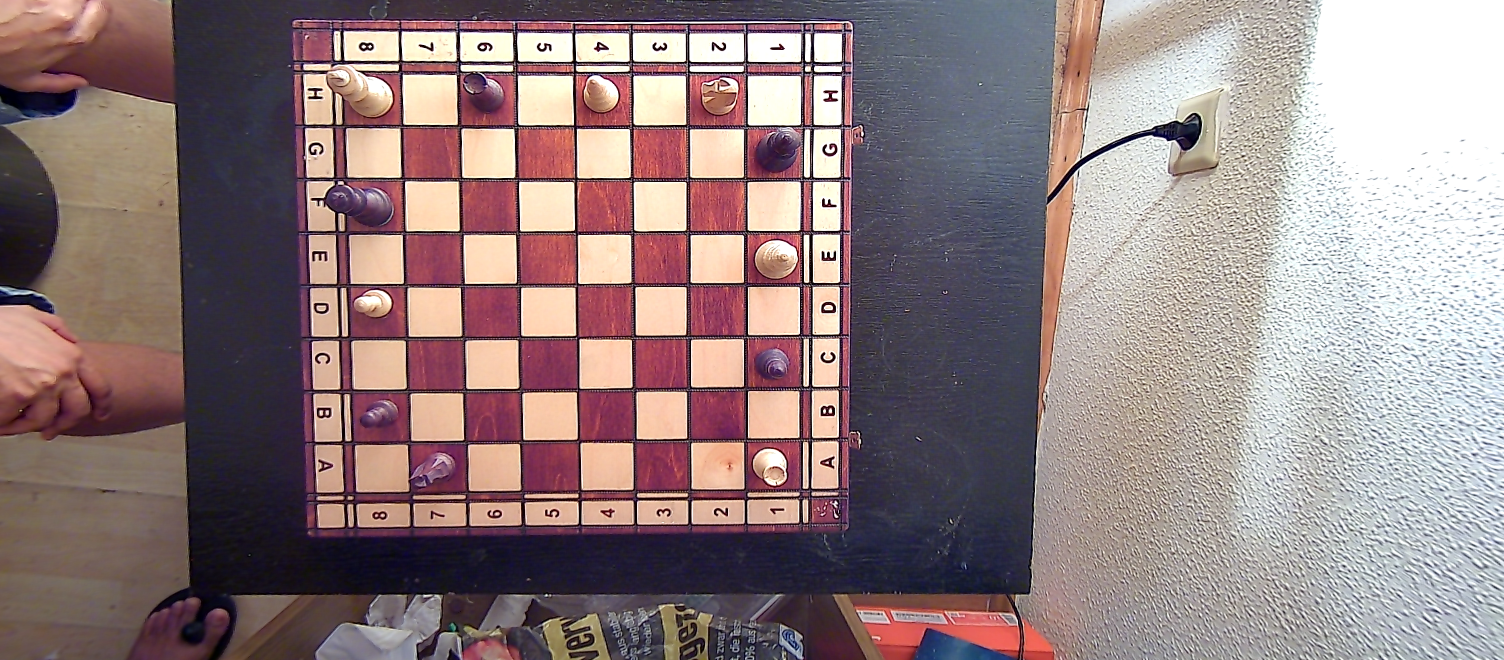black-bishop: (754, 343, 796, 385)
black-king: (323, 183, 395, 228)
black-knight: (404, 451, 455, 490)
black-pawn: (356, 396, 400, 431)
black-queen: (751, 124, 804, 172)
black-rook: (460, 70, 507, 114)
white-bishop: (579, 72, 622, 116)
white-king: (324, 59, 394, 118)
white-knight: (695, 75, 741, 119)
white-pawn: (353, 284, 394, 320)
white-queen: (753, 236, 800, 281)
white-rook: (750, 444, 789, 488)
